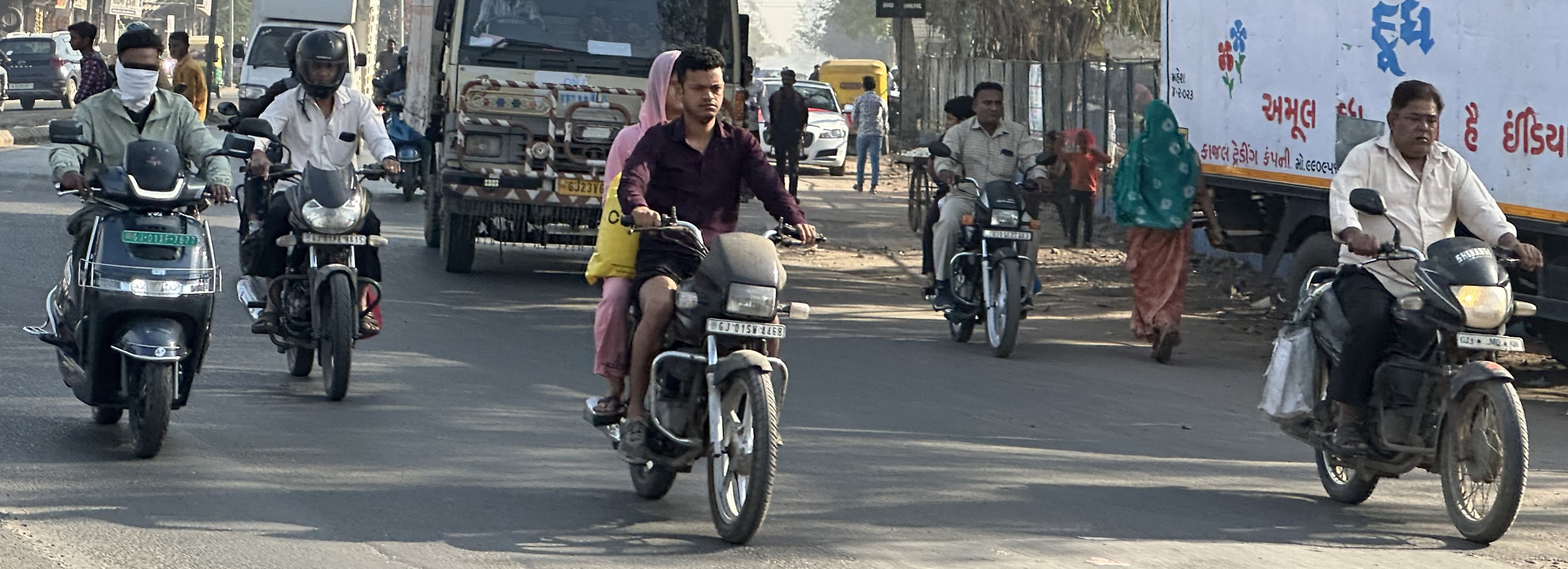BikeWithRider: (539, 24, 850, 560), (1245, 58, 1550, 551), (31, 12, 235, 474), (228, 24, 413, 428), (903, 61, 1072, 369)
Helmet: (287, 24, 367, 107)
NoHelmet: (96, 24, 185, 120), (1377, 71, 1454, 169), (672, 46, 746, 135), (635, 46, 703, 126), (961, 64, 1020, 144)
